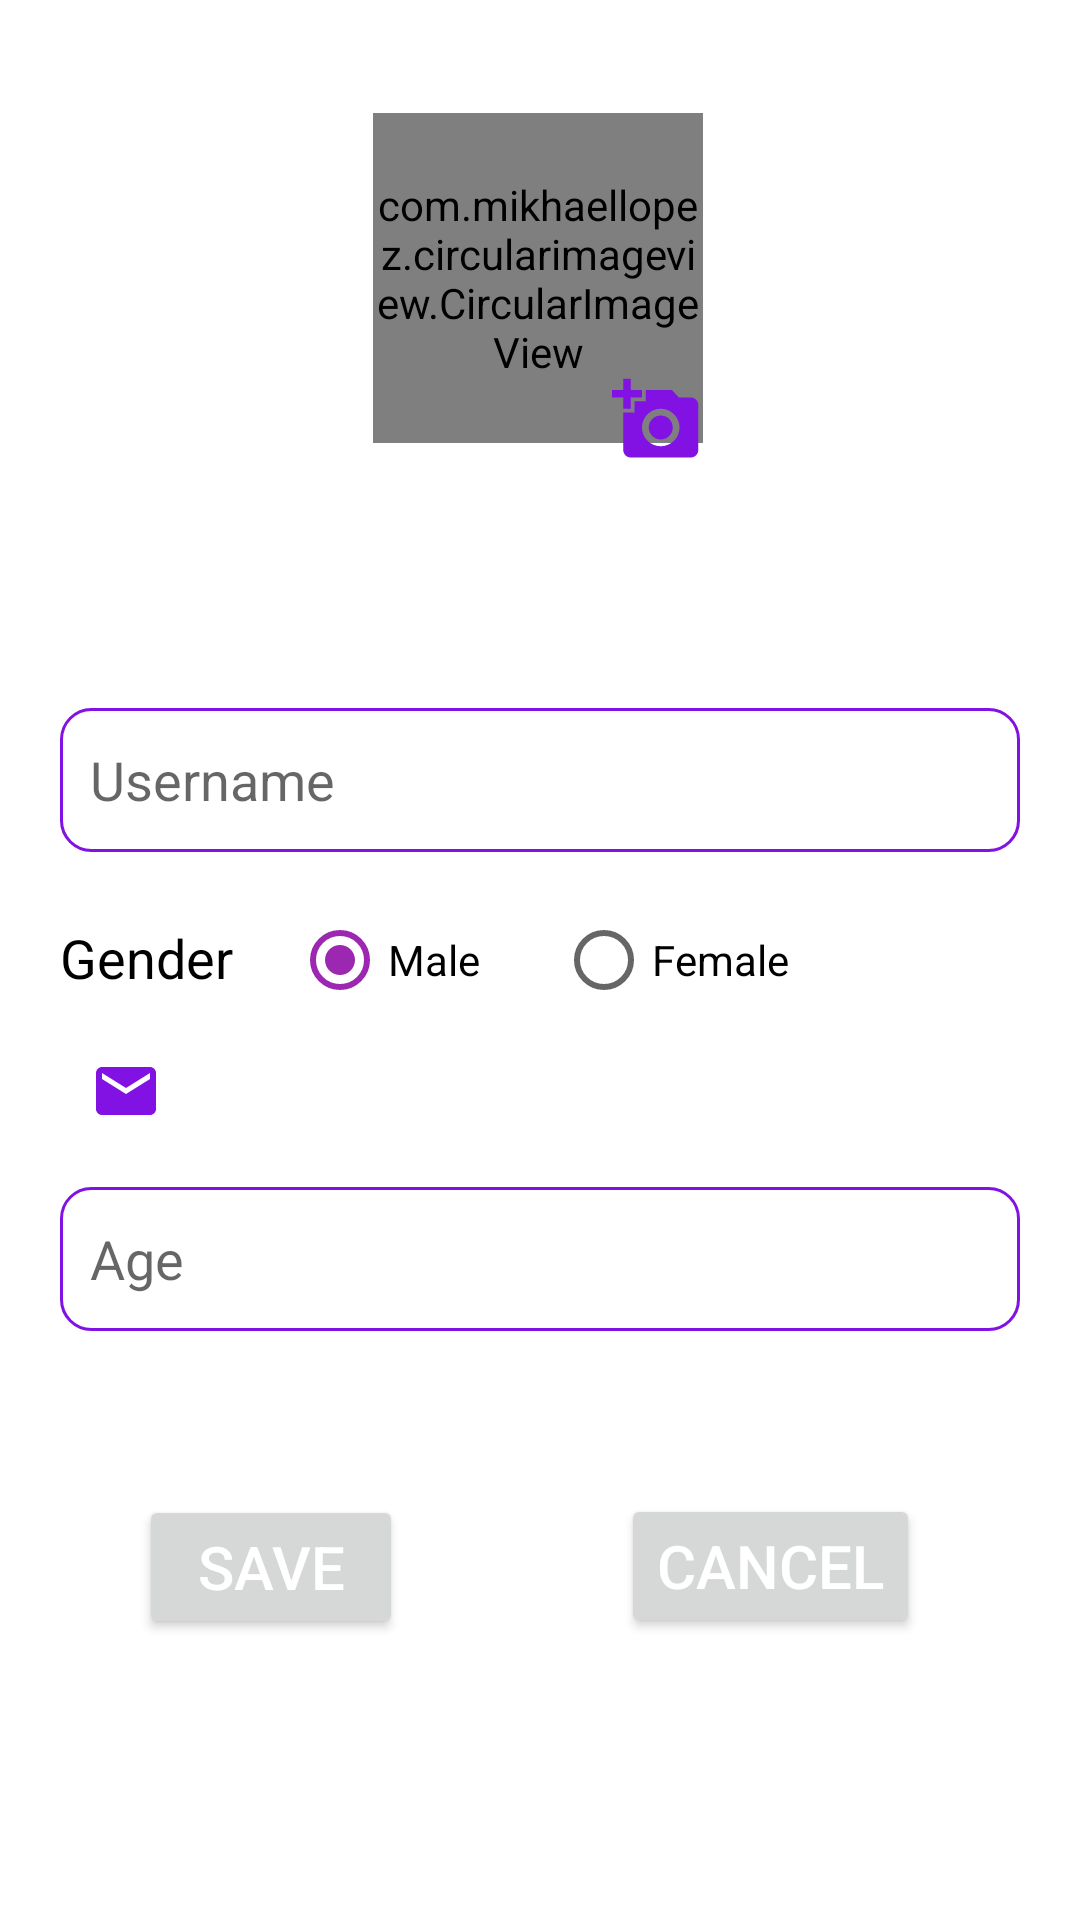

Icons on this 1080 × 1920 Android screen, each with the point to tap as (x,y):
add photo: (657,420)
